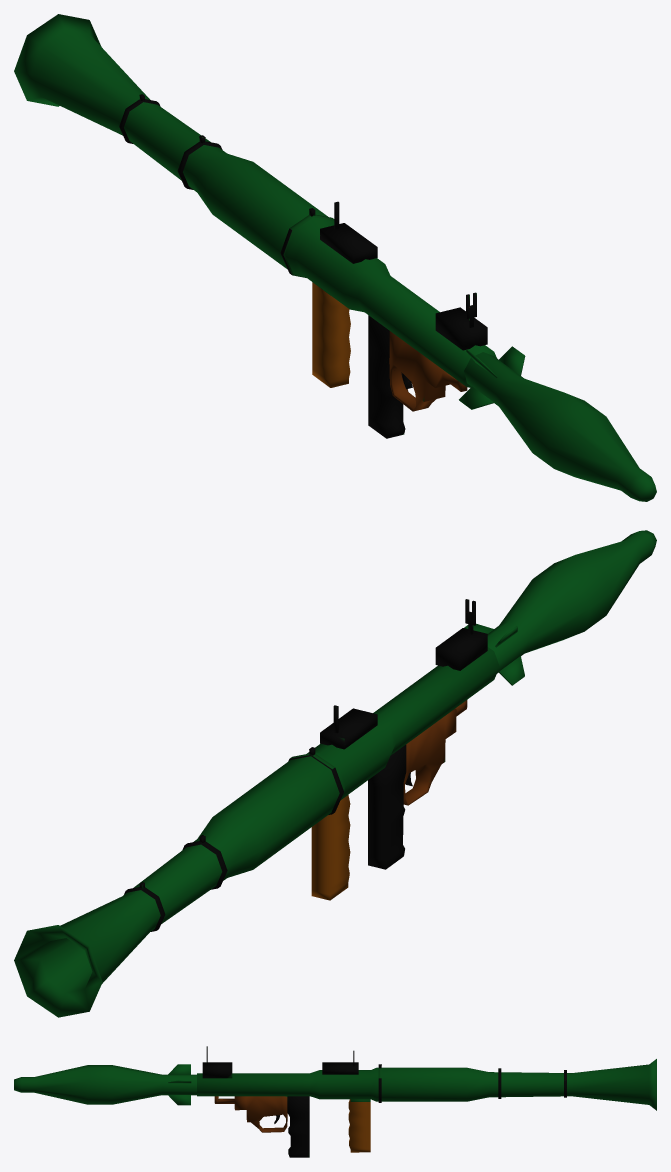
File: rpg.glb
The picture shows the model from 3 angles, top to bottom: view 1: azimuth 30°, elevation 25°; view 2: azimuth 150°, elevation 25°; view 3: azimuth 270°, elevation 25°; orthographic projection. The views are drawn at different scales.
Parts seen in each view (by area): view 1: cube4; view 2: cube4; view 3: cube4.
Boxes of the visible parts, <box> form: cube4: <box>14,14,656,501</box>; cube4: <box>14,530,656,1017</box>; cube4: <box>14,1046,656,1157</box>.
Size of the model in its own units: 0.7586 by 1.62 by 8.74.
Materials: 1 (1 with a texture image).
